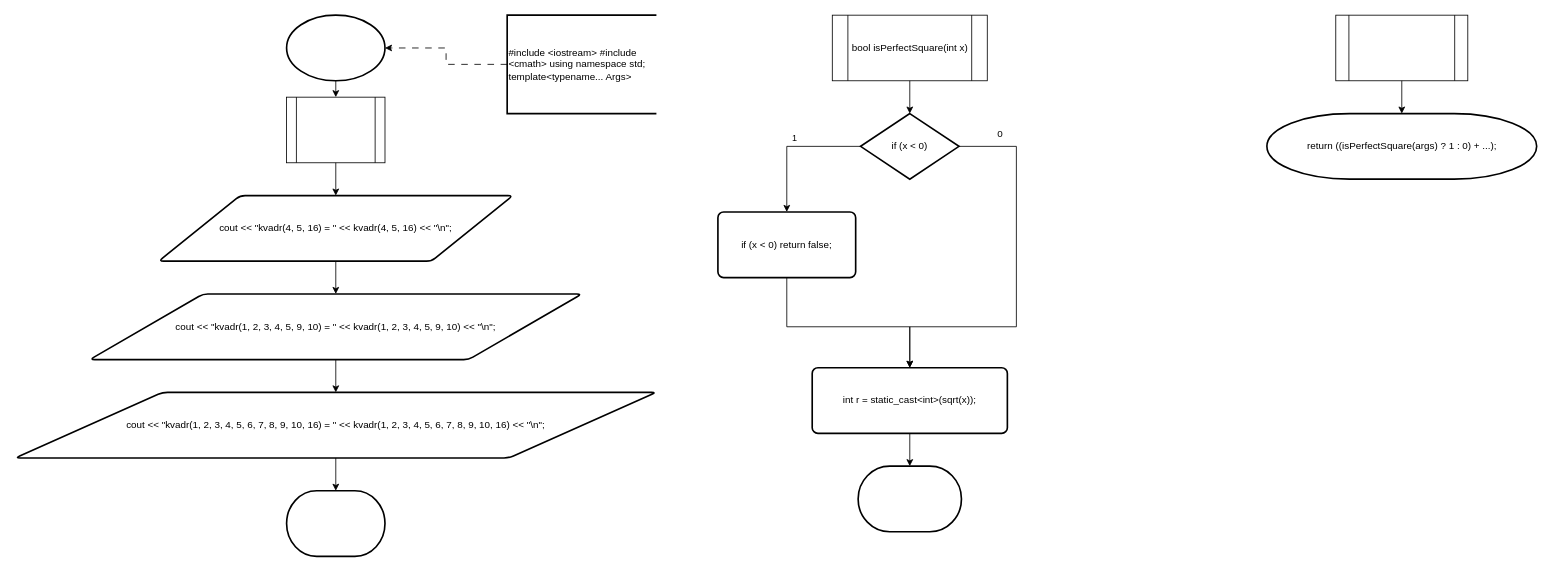
The diagram is 1551 pixels wide and 571 high, and some of its shapes have lost their labels. The box of each missing label's shape, as (x1, y1, x2, y2) in pixels:
int kvadr(Args... args): (1335, 14, 1468, 81)
int main(): (286, 96, 385, 163)
return 0;: (285, 490, 385, 557)
return r * r == x;: (857, 465, 962, 532)
Начало: (285, 14, 385, 81)
